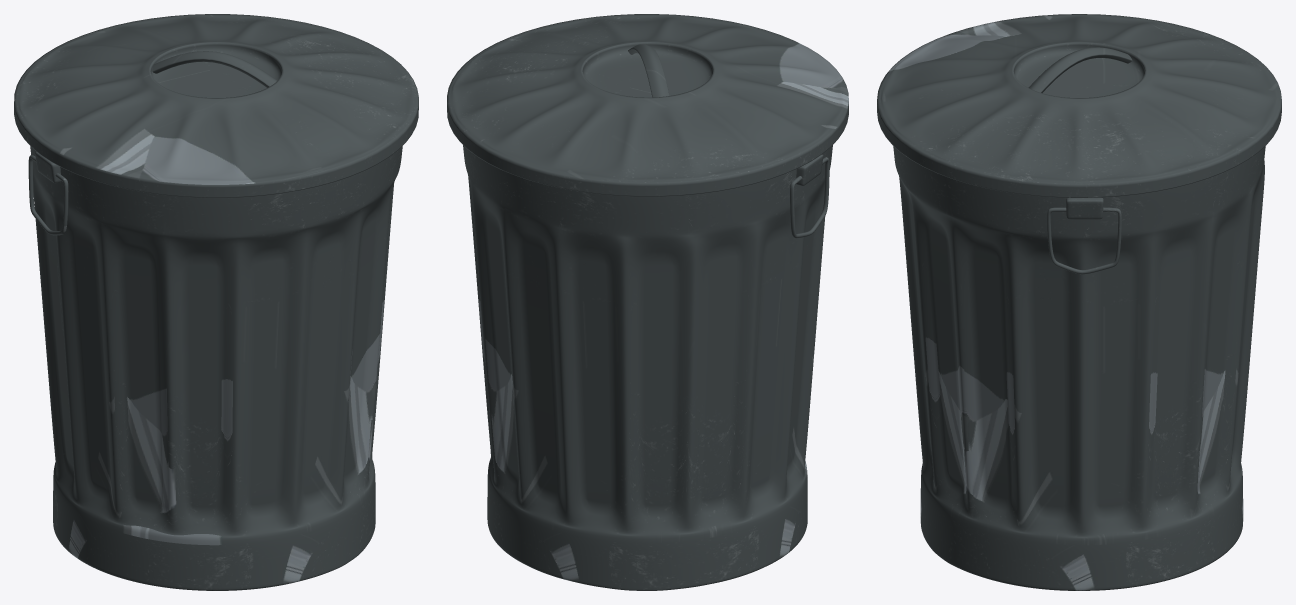
File: Poubelle.fbx
3 renders of one model, left to right at view 1: azimuth 30°, elevation 25°; view 2: azimuth 150°, elevation 25°; view 3: azimuth 270°, elevation 25°, orthographic.
Parts seen in each view (by area): view 1: New Trash Can; view 2: New Trash Can; view 3: New Trash Can.
Part boxes in pixels (x1=…): New Trash Can: x1=14, y1=14, x2=418, y2=590; New Trash Can: x1=447, y1=14, x2=848, y2=590; New Trash Can: x1=877, y1=14, x2=1281, y2=590.
Size of the model in its own units: 77.29 by 99.87 by 77.29.
Materials: 1 (1 with a texture image).
